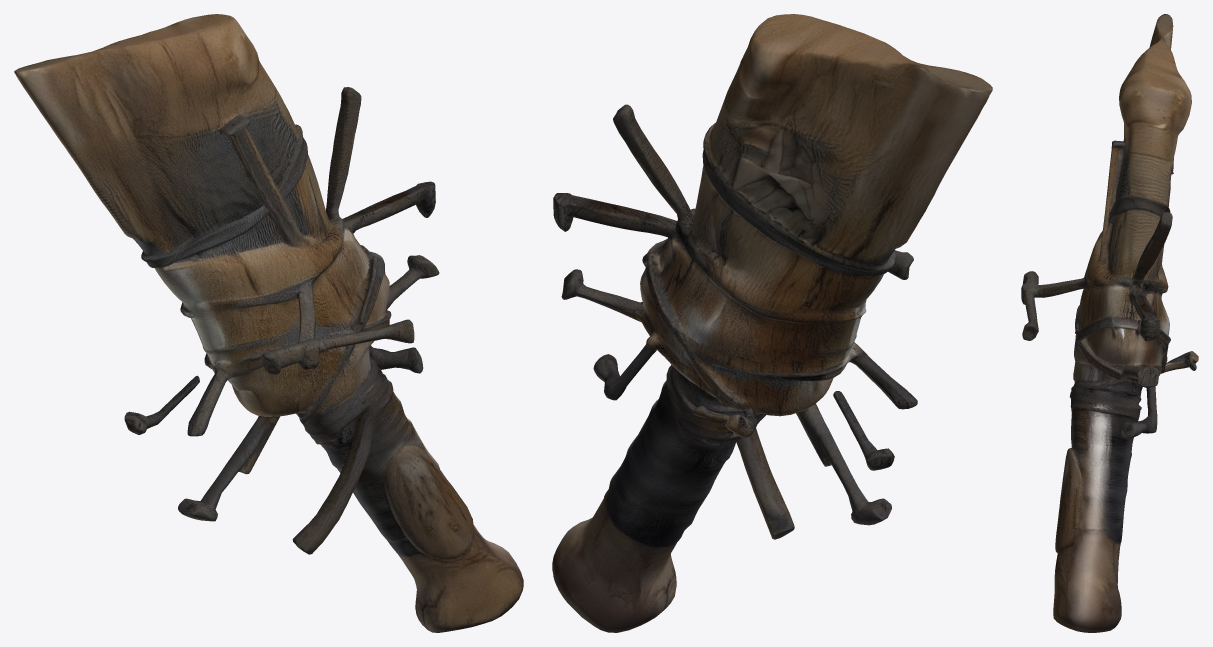
The model's file is weapon_nail_bat.glb.
3 views of the same model, side by side, from view 1: azimuth 30°, elevation 25°; view 2: azimuth 150°, elevation 25°; view 3: azimuth 270°, elevation 25° (orthographic). The views are drawn at different scales.
Size of the model in its own units: 0.6299 by 0.84 by 0.2821.
1 material, 1 textured.
